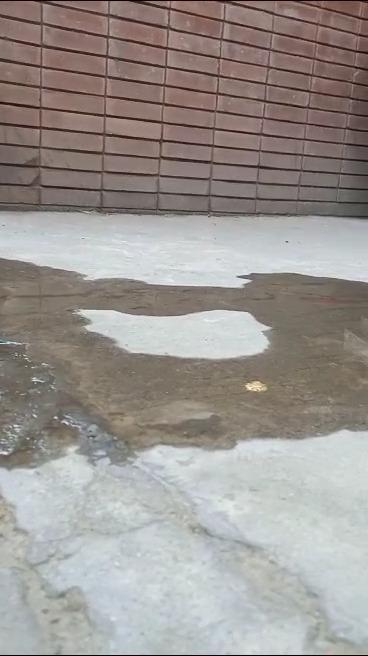water accumulation: (0, 255, 368, 470)
